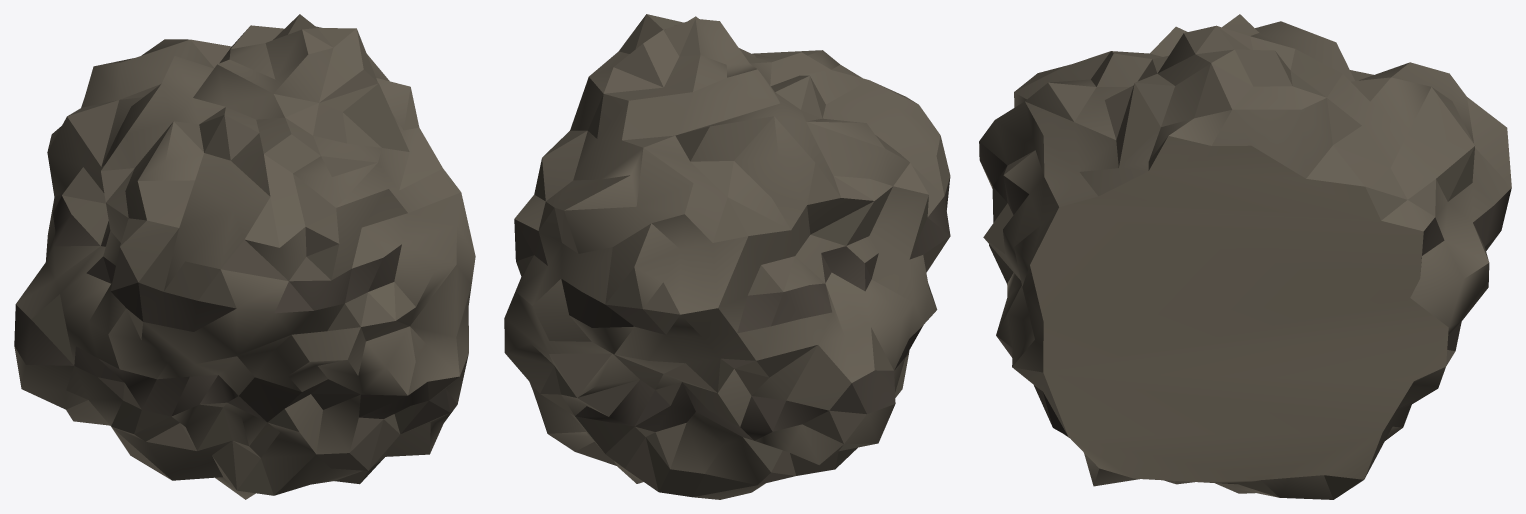
Rendered from seam_bearing_quarried_parent_rock_lod1.glb.
3 views of the same model, side by side, from view 1: azimuth 30°, elevation 25°; view 2: azimuth 150°, elevation 25°; view 3: azimuth 270°, elevation 25° (orthographic). The views are drawn at different scales.
Parts seen in each view (by area): view 1: LOD1_Stone, LOD1_Stone_strata; view 2: LOD1_Stone, LOD1_Stone_strata; view 3: LOD1_Stone_cut, LOD1_Stone, LOD1_Stone_strata.
Part boxes in pixels (bbox=[...]): LOD1_Stone: bbox=[14, 14, 475, 499]; LOD1_Stone_strata: bbox=[14, 193, 457, 422]; LOD1_Stone: bbox=[504, 14, 950, 499]; LOD1_Stone_strata: bbox=[514, 177, 950, 440]; LOD1_Stone_cut: bbox=[1030, 136, 1448, 484]; LOD1_Stone: bbox=[979, 14, 1511, 499]; LOD1_Stone_strata: bbox=[979, 141, 1511, 435].
Size of the model in its own units: 2.74 by 3.61 by 3.65.
